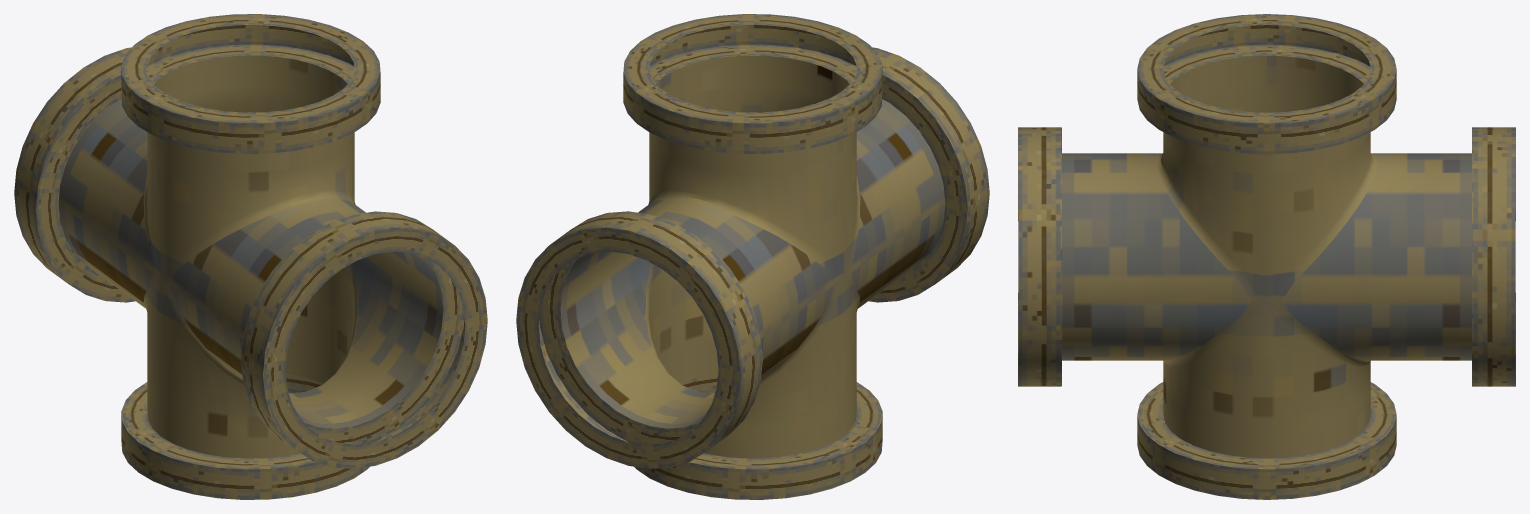
Rendered from 4_WAY_CROSS.fbx.
3 renders of one model, left to right at view 1: azimuth 30°, elevation 25°; view 2: azimuth 150°, elevation 25°; view 3: azimuth 270°, elevation 25°, orthographic.
Visible parts, largest first — view 1: 4 WAY CROSS.002; view 2: 4 WAY CROSS.002; view 3: 4 WAY CROSS.002.
Boxes of the visible parts, x1,y1,x2,y2 form: 4 WAY CROSS.002: (14,14,487,499); 4 WAY CROSS.002: (516,14,989,499); 4 WAY CROSS.002: (1018,14,1515,499).
Size of the model in its own units: 250 by 400 by 480.
